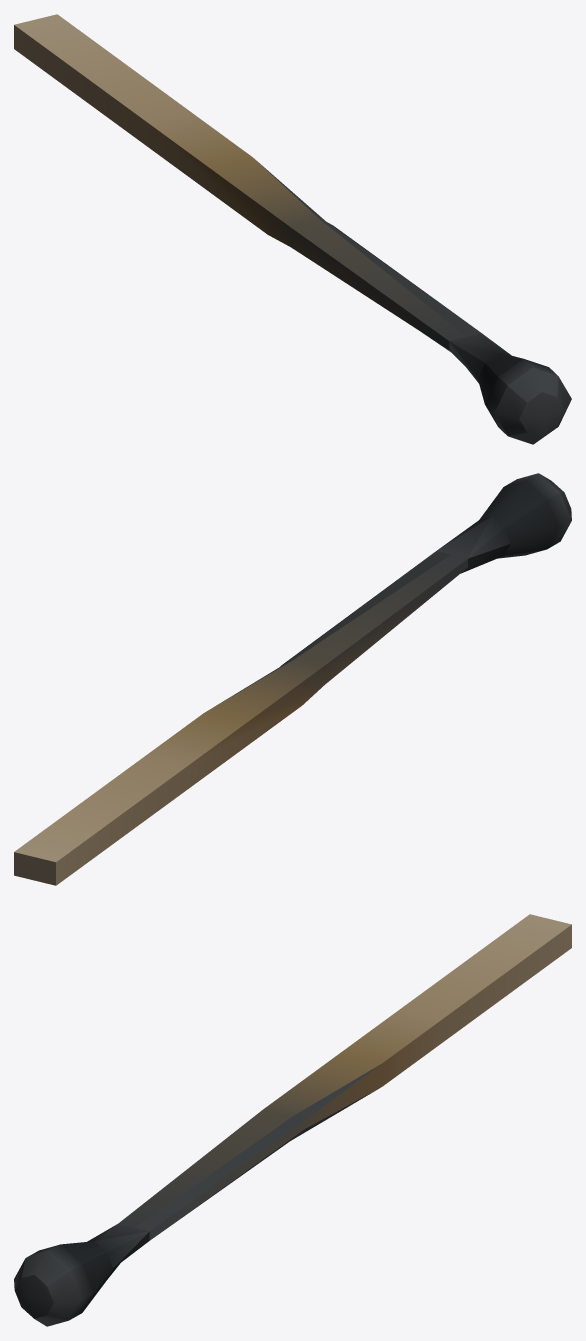
The model's file is human-household-items-match_v3.glb.
The picture shows the model from 3 angles, top to bottom: view 1: azimuth 30°, elevation 25°; view 2: azimuth 150°, elevation 25°; view 3: azimuth 330°, elevation 25°; orthographic projection. The views are drawn at different scales.
Visible parts, largest first — view 1: Match_v3; view 2: Match_v3; view 3: Match_v3.
Part boxes in pixels (<box>): Match_v3: <box>14,14,571,444</box>; Match_v3: <box>14,473,571,885</box>; Match_v3: <box>14,914,571,1326</box>.
Bounding box in the file's own units: 0.00415 × 0.00406 × 0.05.
